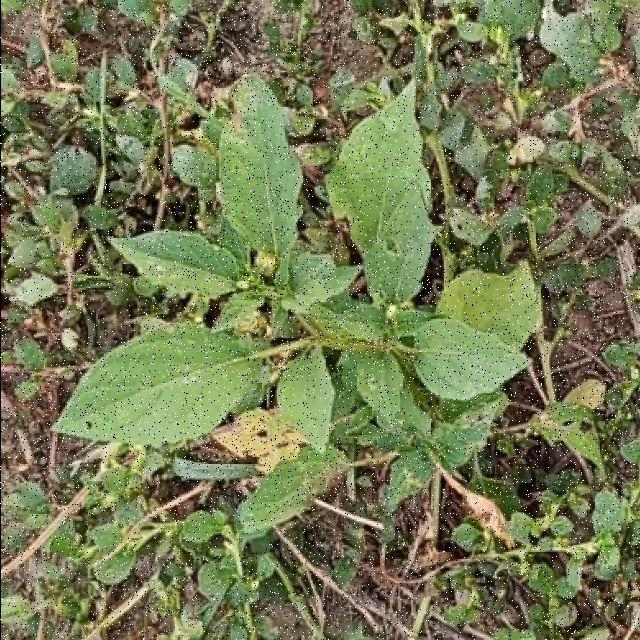weed: (52, 78, 538, 536)
